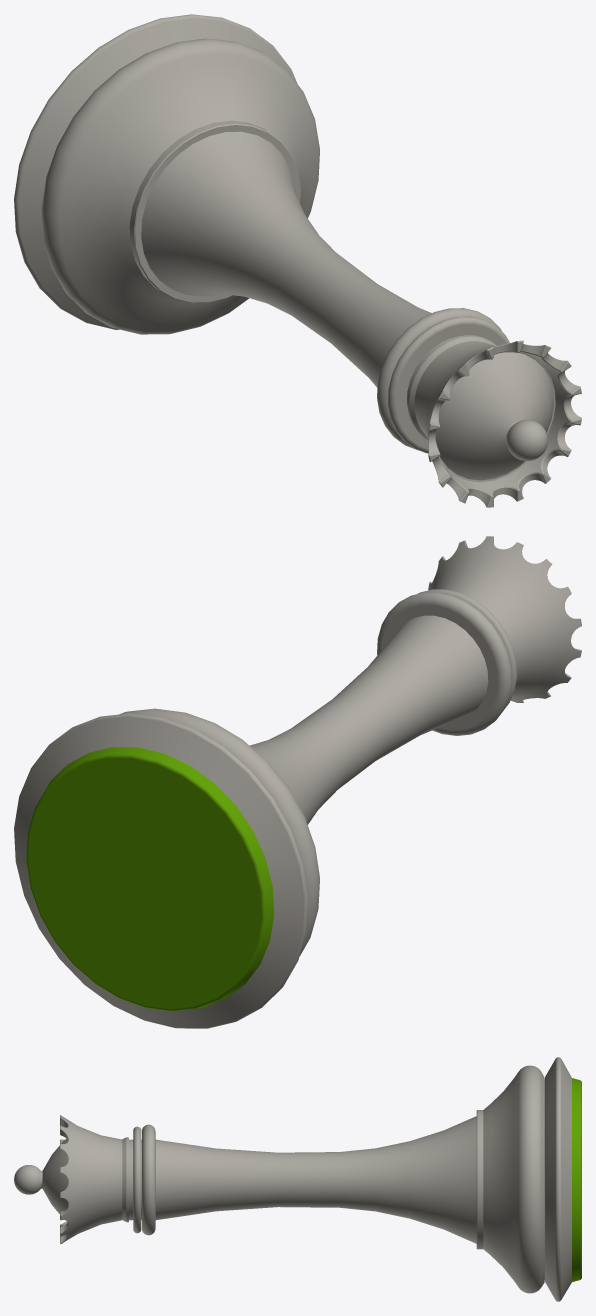
The model's file is queen.glb.
3 renders of one model, top to bottom at view 1: azimuth 30°, elevation 25°; view 2: azimuth 150°, elevation 25°; view 3: azimuth 270°, elevation 25°, orthographic. The views are drawn at different scales.
Visible parts, largest first — view 1: queen; view 2: queen, felt; view 3: queen, felt.
Boxes of the visible parts, box(x1,y1,x2,y2) form: queen: box(14, 14, 581, 507); queen: box(14, 536, 581, 1028); felt: box(26, 747, 274, 1011); queen: box(14, 1057, 571, 1301); felt: box(572, 1078, 581, 1281).
Bounding box in the file's own units: 0.0359 × 0.0358 × 0.0832.
